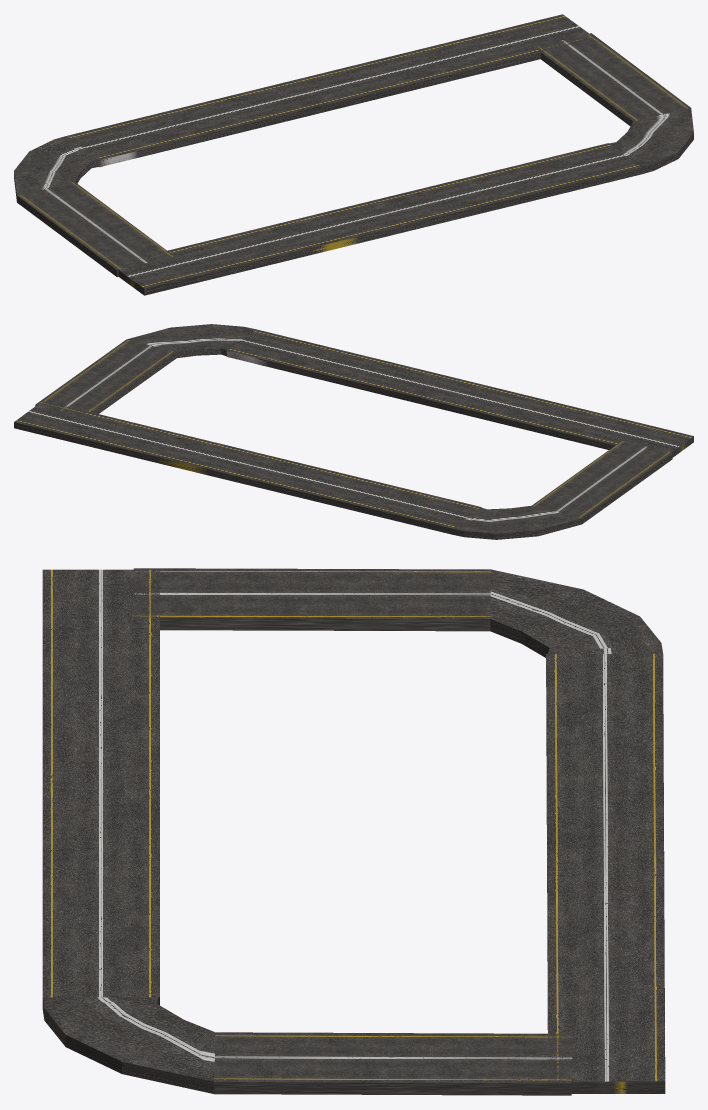
The model's file is Road.fbx.
3 renders of one model, top to bottom at view 1: azimuth 30°, elevation 25°; view 2: azimuth 150°, elevation 25°; view 3: azimuth 270°, elevation 25°, orthographic. The views are drawn at different scales.
Parts seen in each view (by area): view 1: Road; view 2: Road; view 3: Road.
Part boxes in pixels (x1,y1,x2,y2): Road: (14, 14, 693, 295); Road: (14, 324, 693, 539); Road: (42, 568, 665, 1095).
Bounding box in the file's own units: 2081 × 23.31 × 1063.
